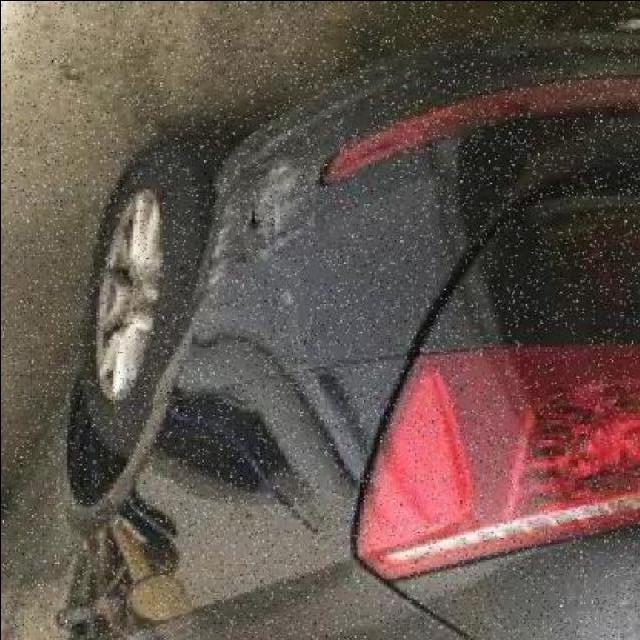rear-bumper-dent: (135, 22, 639, 408)
